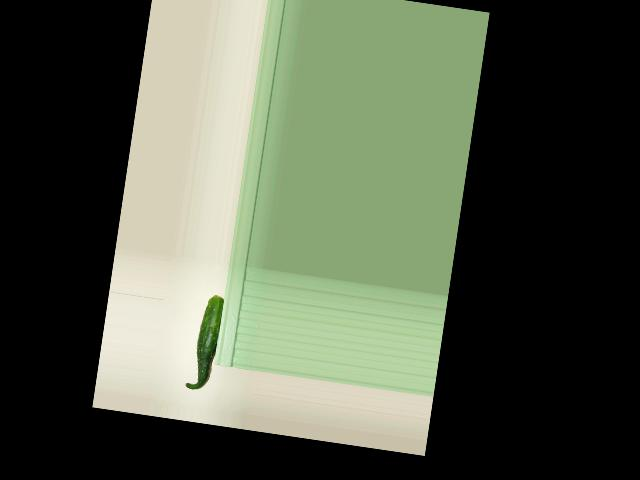cucumber: (185, 293, 224, 392)
